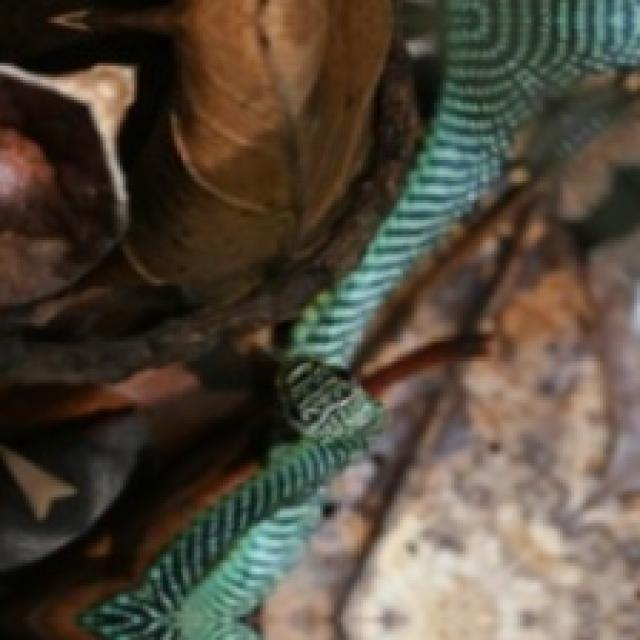paradise tree snake: (0, 0, 434, 637), (277, 0, 637, 637), (163, 194, 309, 300)
